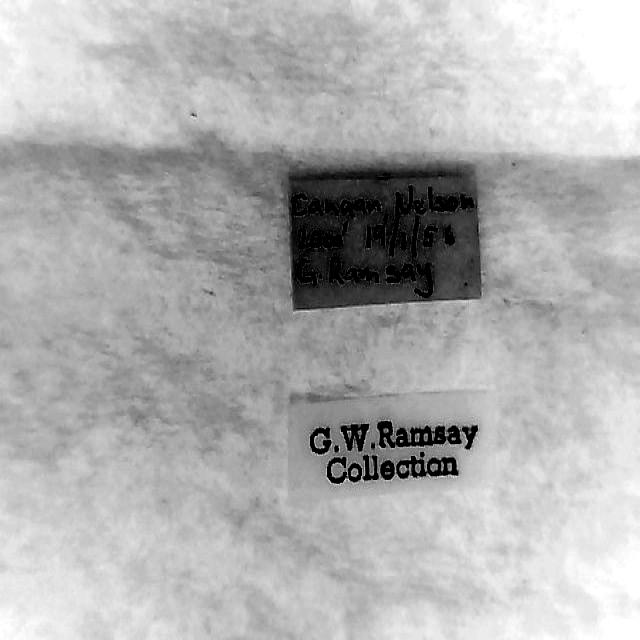hand_label: (289, 179, 481, 310)
typed_label: (289, 392, 496, 499)
